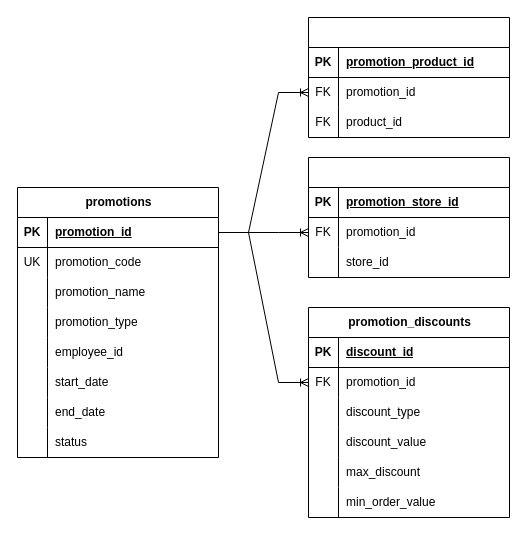
The diagram is 527 pixels wide and 535 high, and some of its shapes have lost their labels. Each missing label, with the box of its shape:
promotion_products: (308, 16, 510, 138)
promotion_stores: (308, 156, 510, 278)
